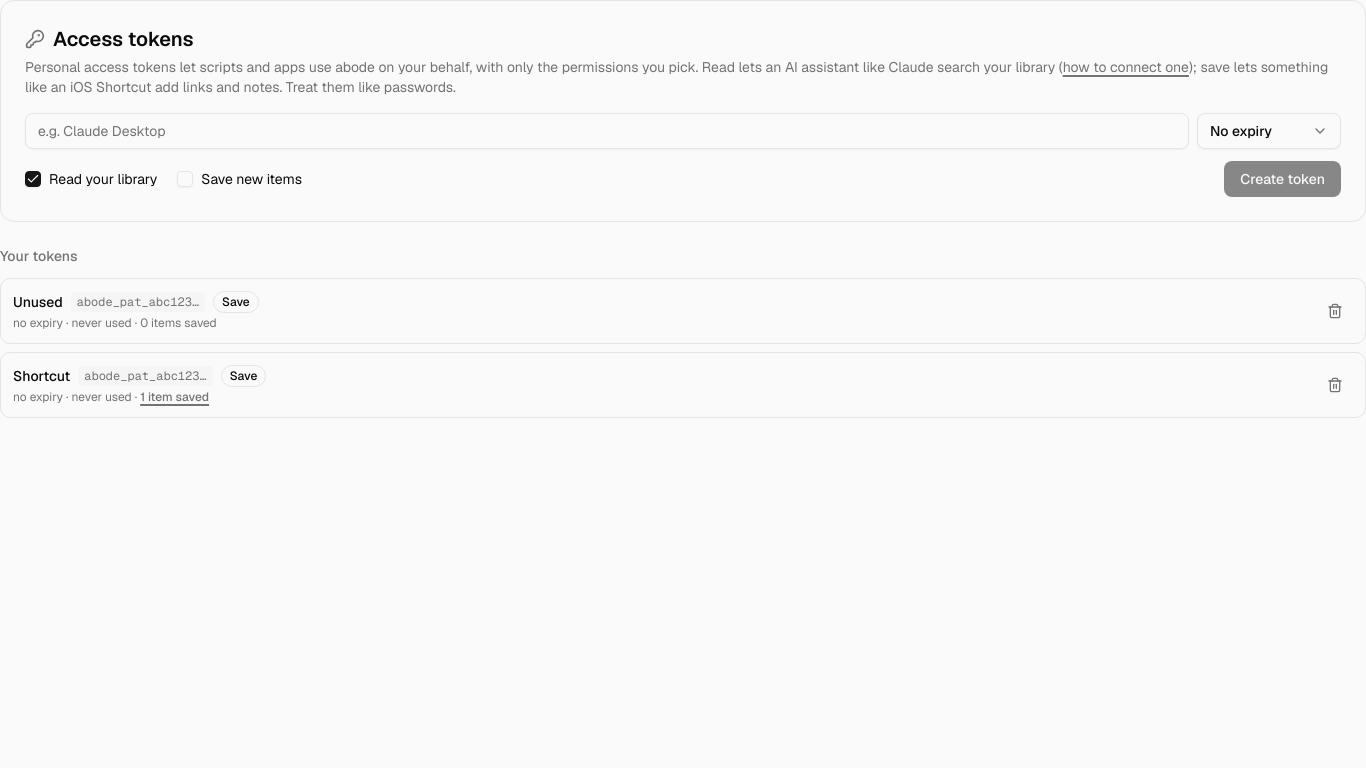
Test: TokenSettings › opens a token's saved items from its count, only when there are some
Click the button "1 item saved" at (175, 397), box [140, 389, 209, 405]
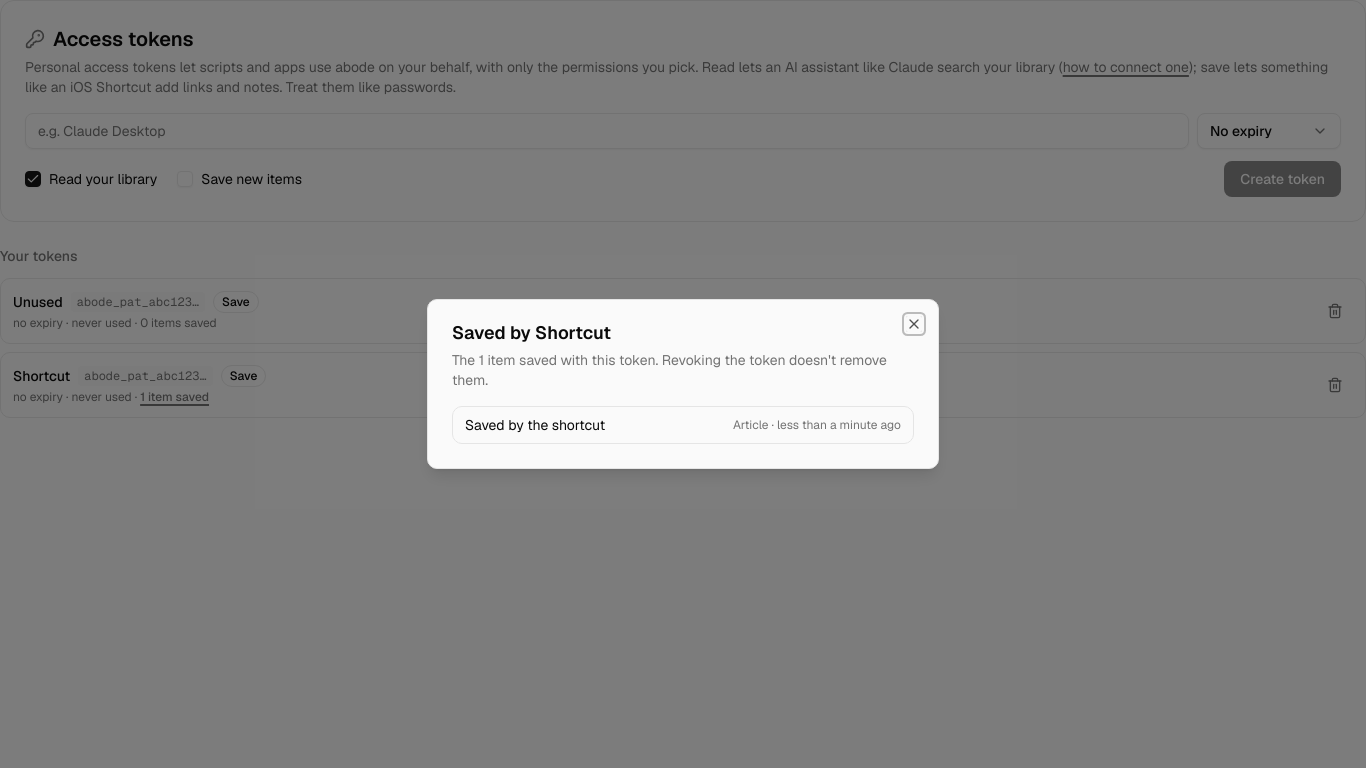
Result: the text "Saved by the shortcut" is shown at [465, 415, 605, 435]
